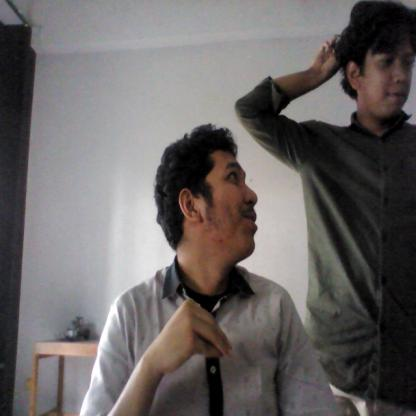Malam: (139, 294, 238, 384)
